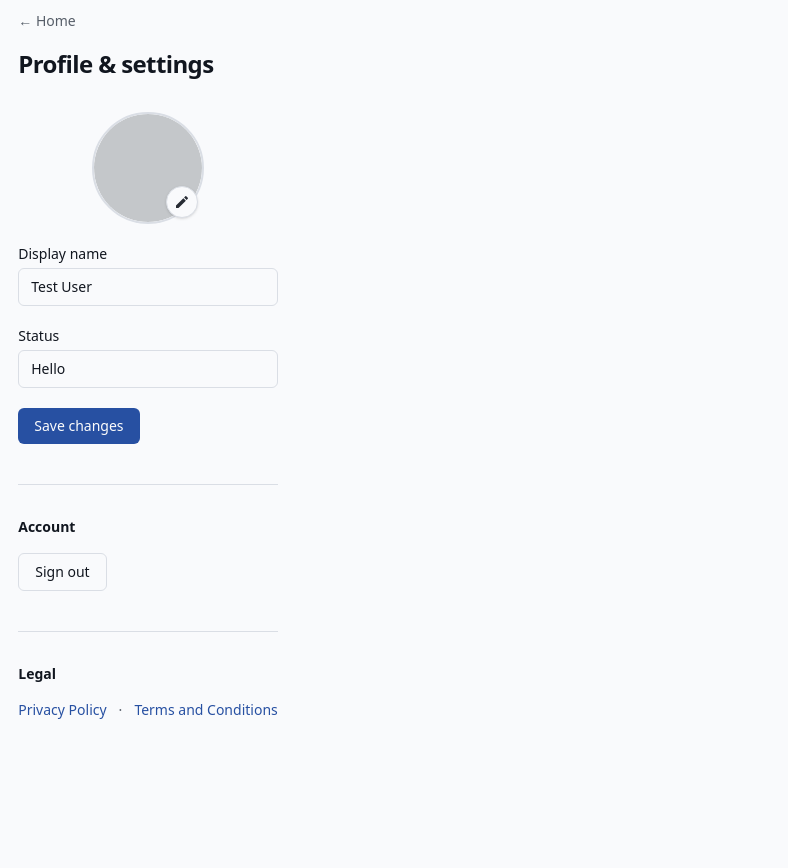
SettingsPage › submits profile updates via PATCH /users/me and shows success
This screenshot has width=788, height=868.
Replace the text in the field labelled "Display name" with "Updated Name" at (148, 287), box [18,268,278,306]
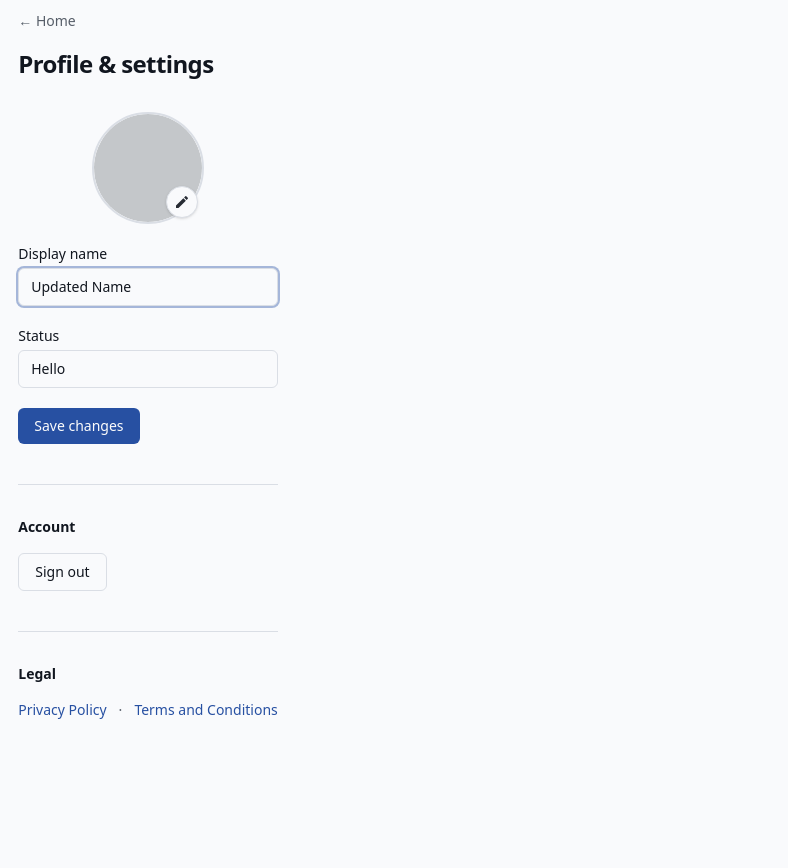
Click the button "Save changes" at (79, 426), box [18,408,140,444]
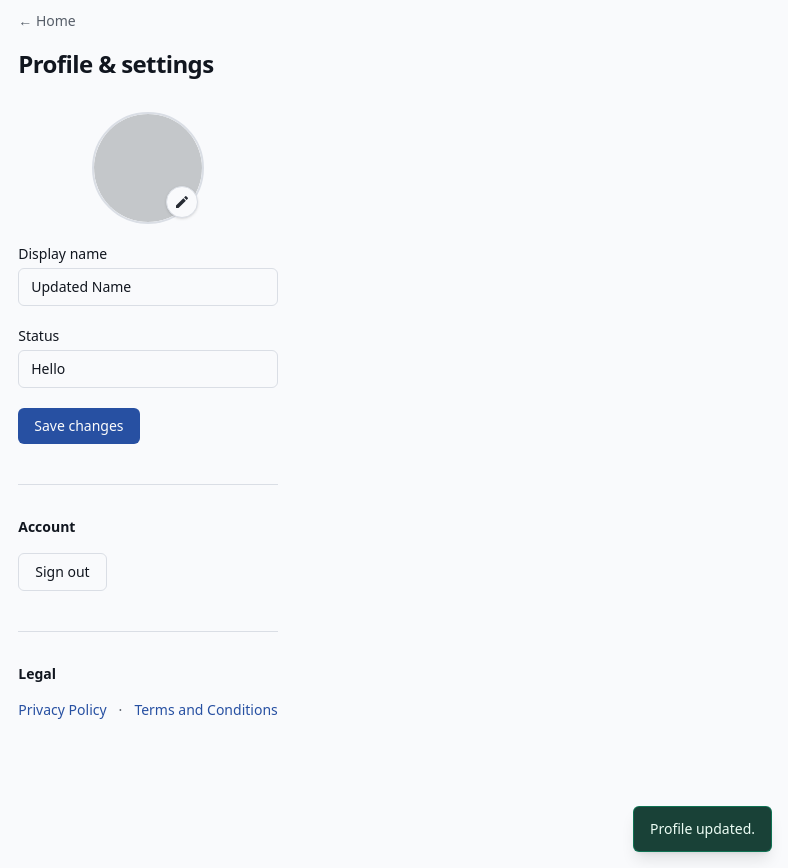
Now the text "Profile updated." is shown, box [633,806,772,852]
